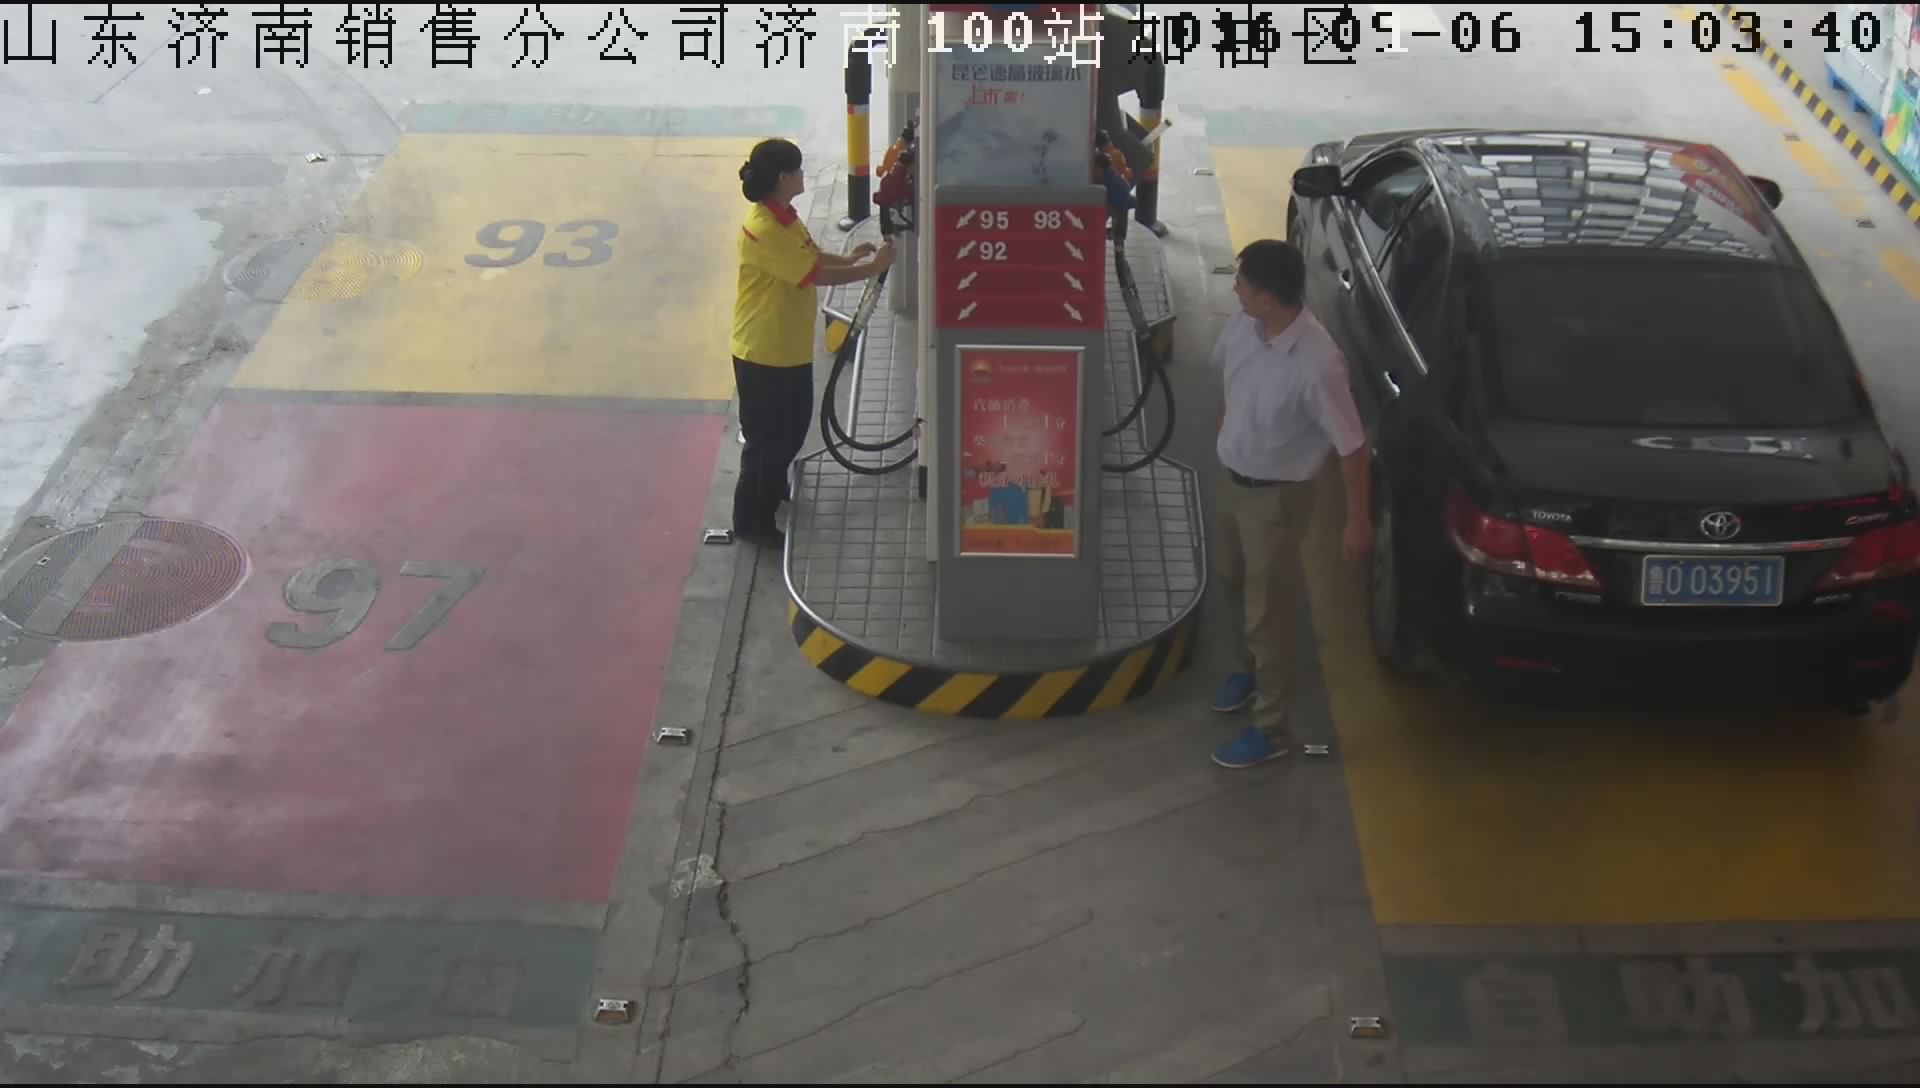blue: (1640, 553, 1787, 615)
